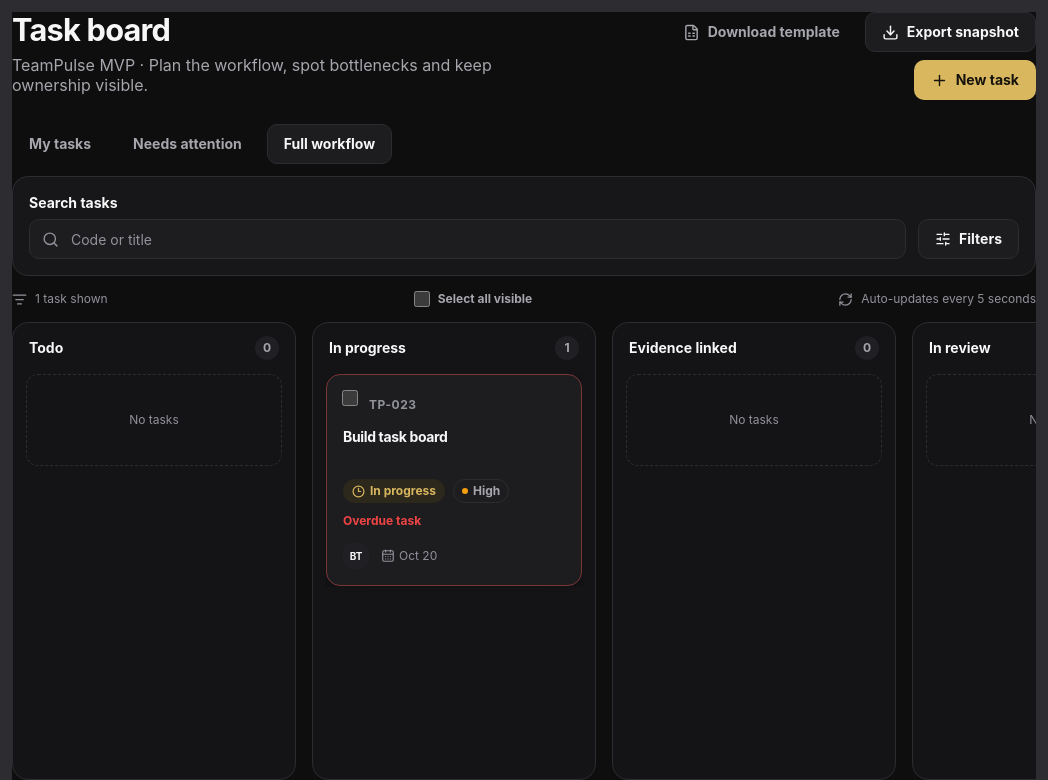
it: task board flow › shows a safe error when spreadsheet export fails
This screenshot has width=1048, height=780.
Click the button "Export snapshot".
click(950, 32)  # box [865,12,1036,52]
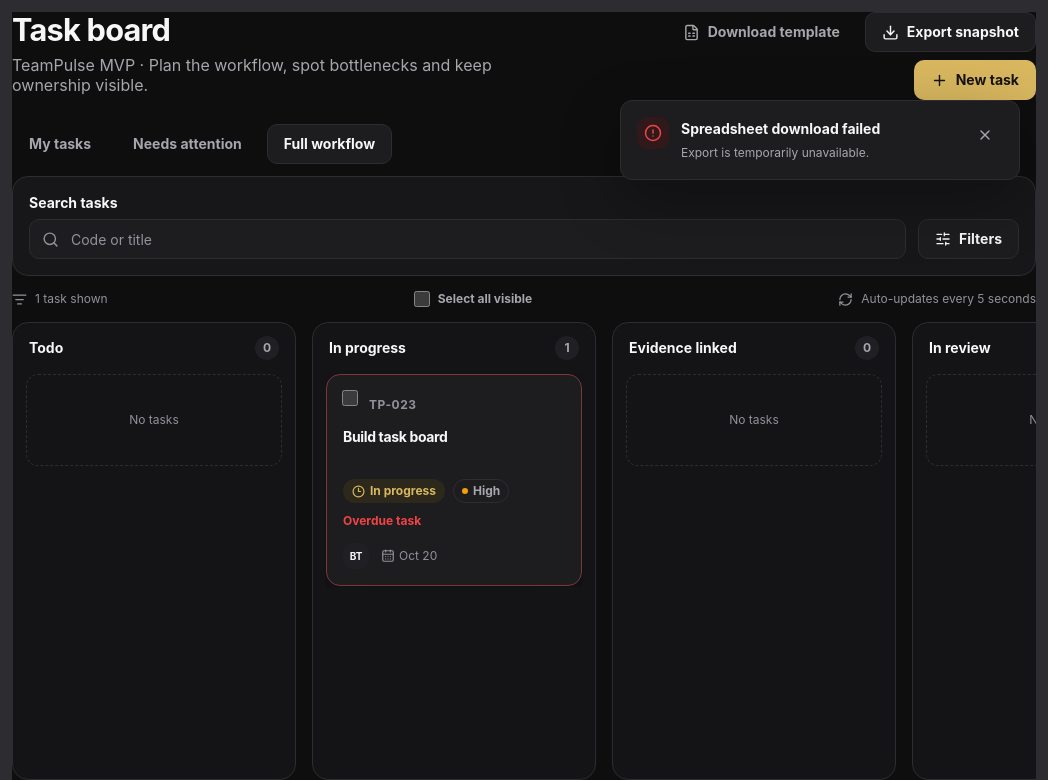
Check: the text "Spreadsheet download failed" is shown, box [681,120,880,137]
Check: the text "Export is temporarily unavailable." is shown, box [681,145,869,160]
